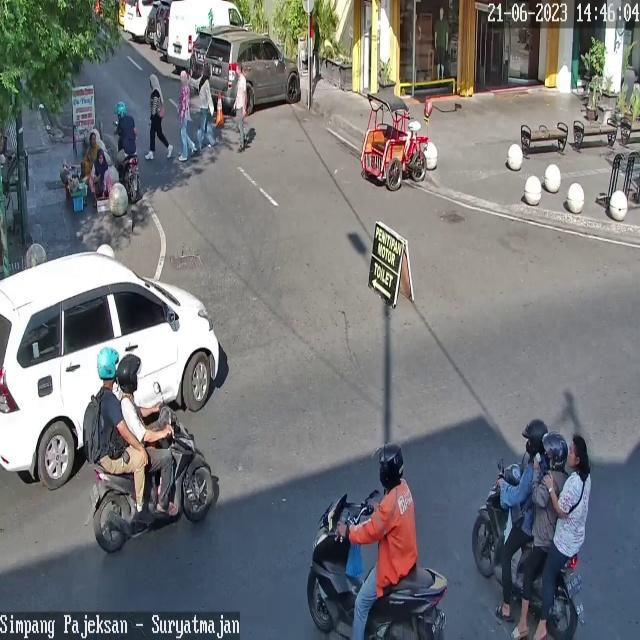bus: (306, 492, 448, 640), (472, 460, 586, 640), (83, 402, 214, 552)
motorcycle: (0, 252, 219, 489), (202, 31, 302, 115), (166, 0, 245, 67), (191, 27, 213, 79), (122, 0, 152, 38)
